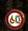Speed Limit -60-: (4, 8, 24, 28)
